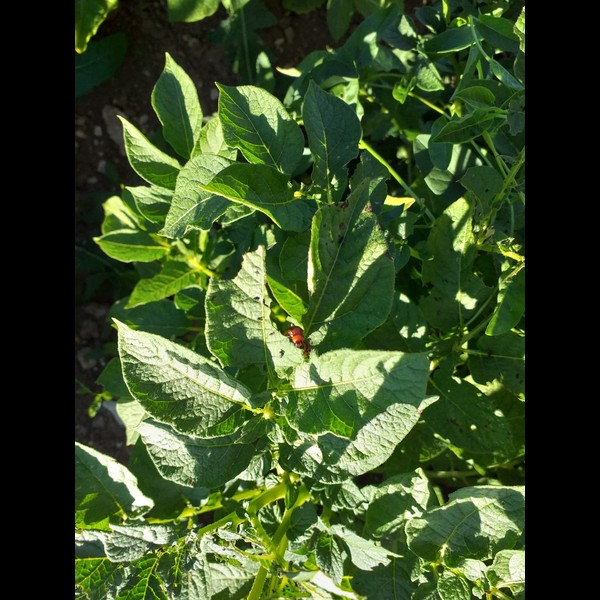hrosc: (280, 323, 310, 352)
